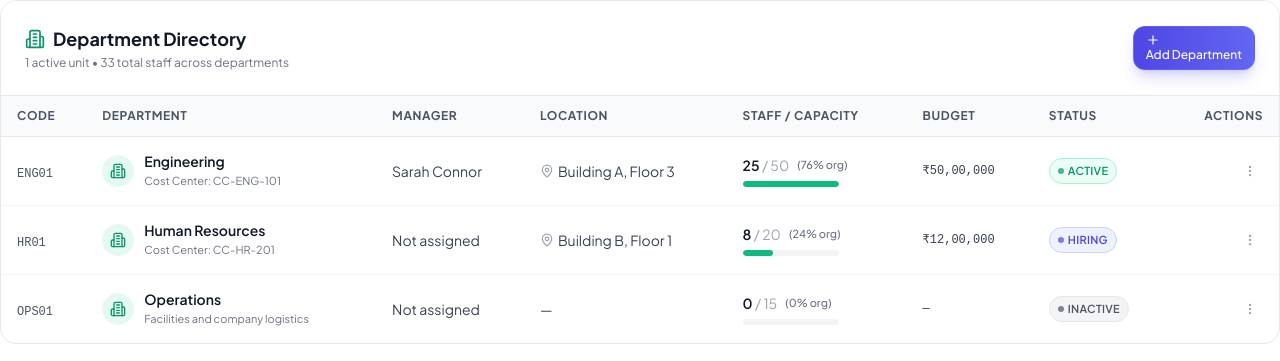
Department Table UI & Three-Dot Actions Menu › opens dropdown menu on click with "View Details" and "Edit Department"
The image size is (1280, 361).
What coordinates should you click on to do the following:
click the button titled "More actions"
I would click on:
 (1250, 171)
Its box is [1237,158,1263,184].
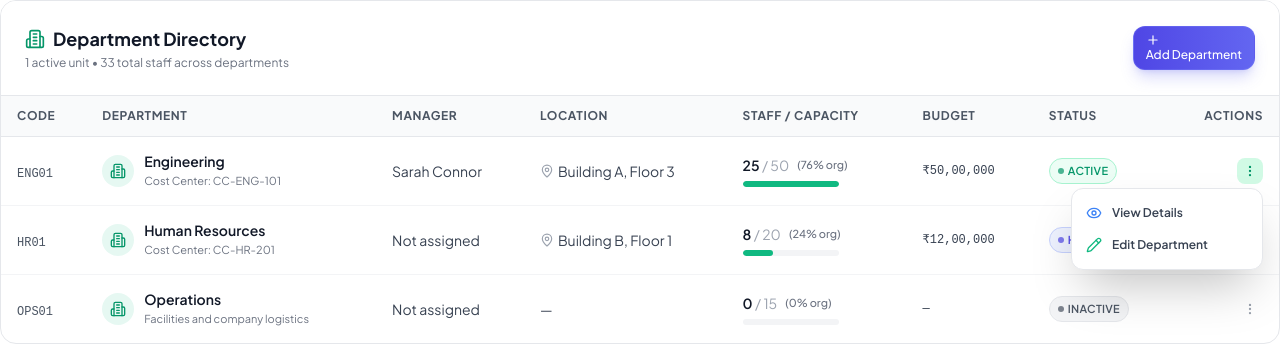
Expected: the text "View Details" is shown, [1112,205,1183,221]
Expected: the text "Edit Department" is shown, [1112,237,1208,253]
